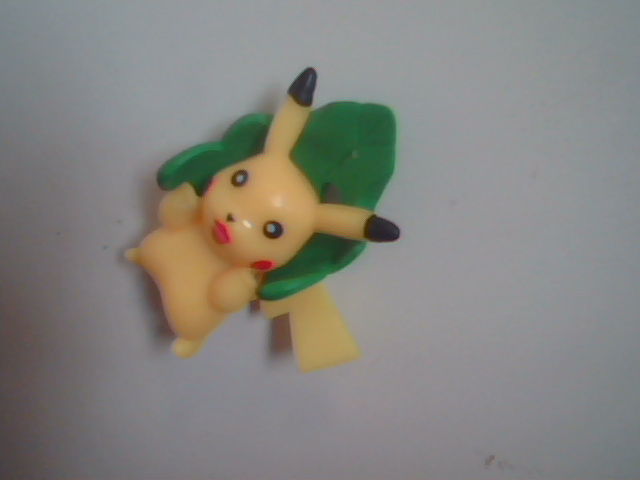pikachu: (78, 27, 451, 395)
